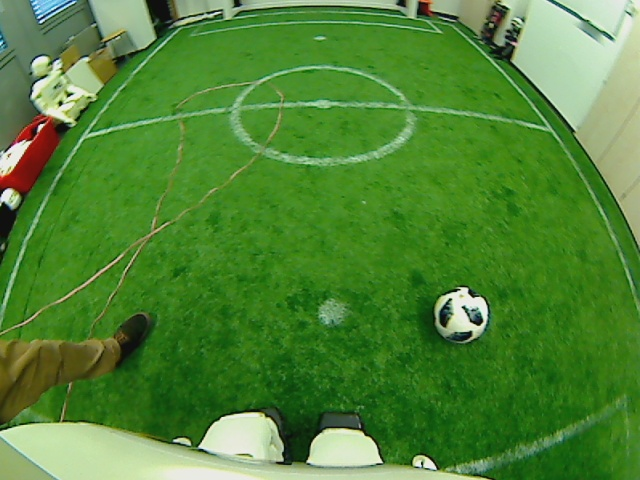ball: (431, 285, 491, 344)
